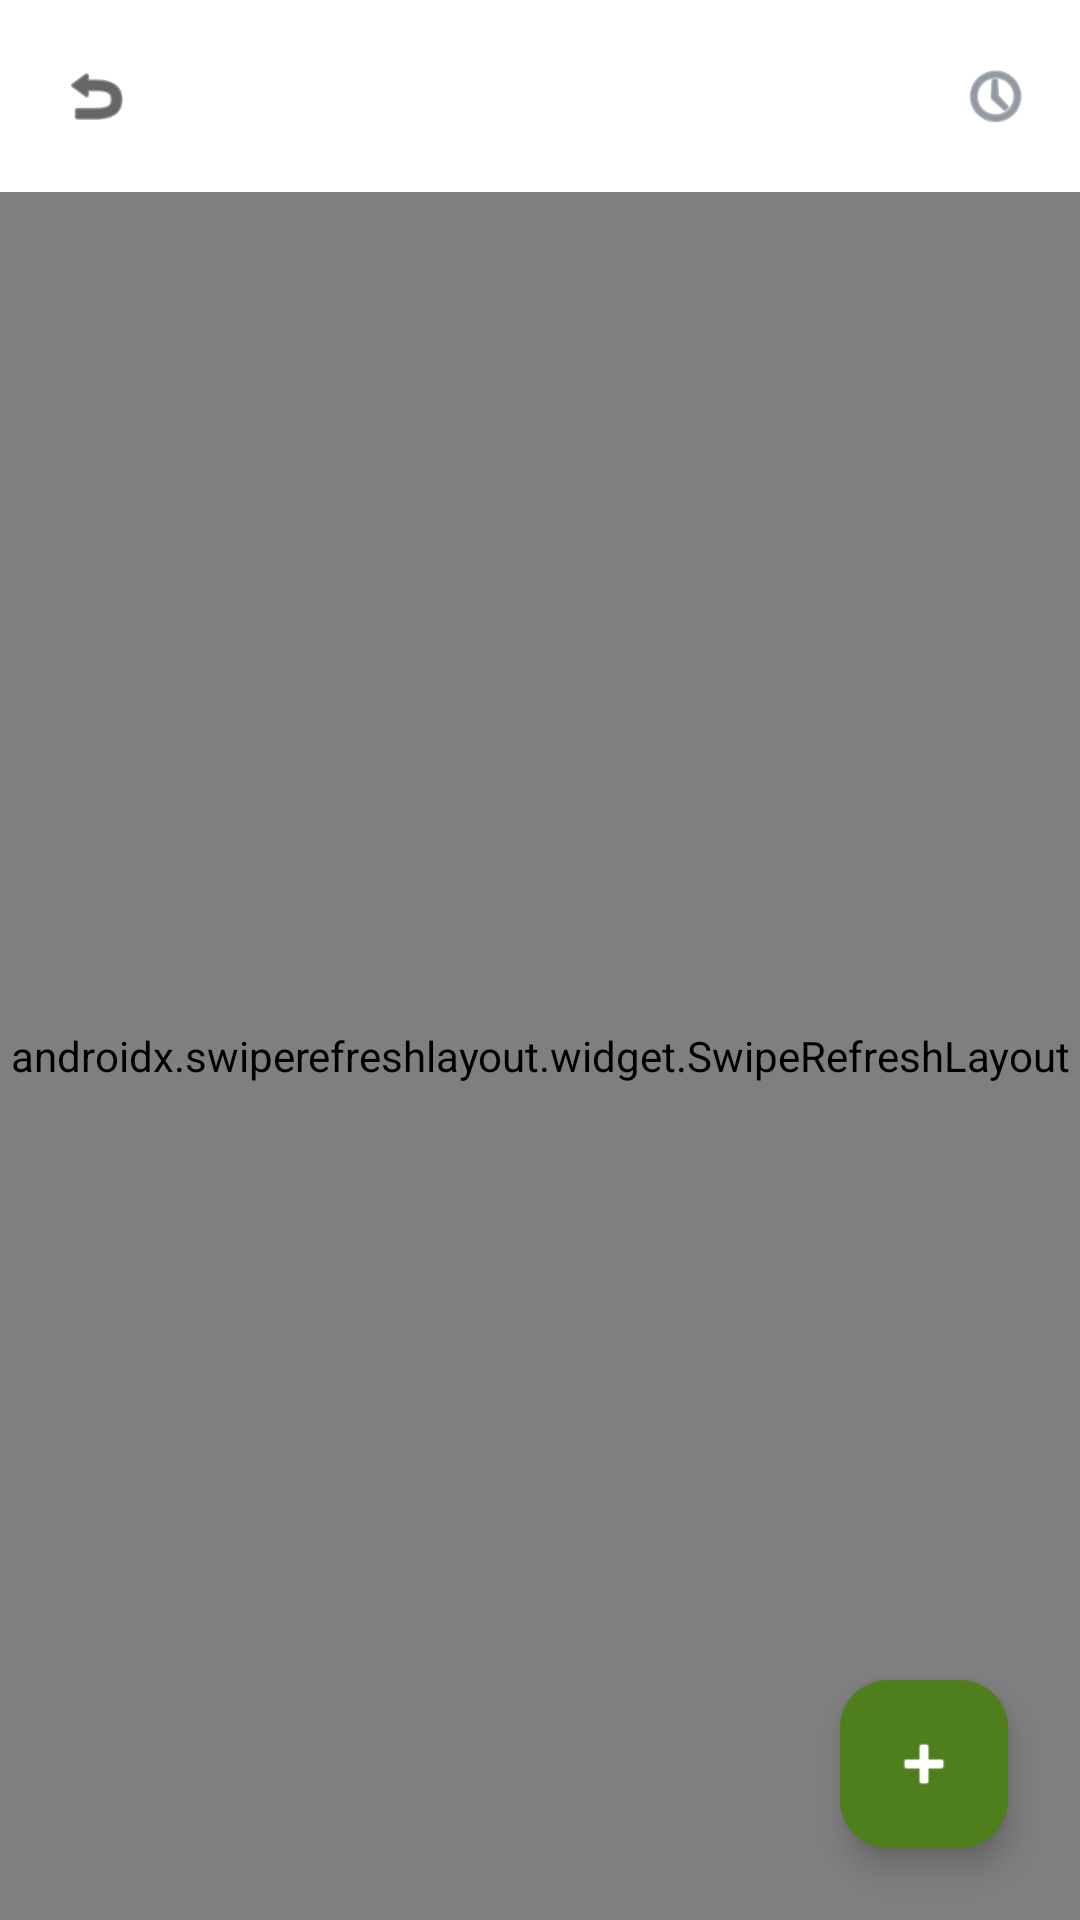

Icons on this 1080 × 1920 Android screen, each with its box as (x1, y1, x2, y2):
add: (840, 1680, 1008, 1848)
recent history: (970, 70, 1022, 122)
revert: (71, 73, 123, 120)
